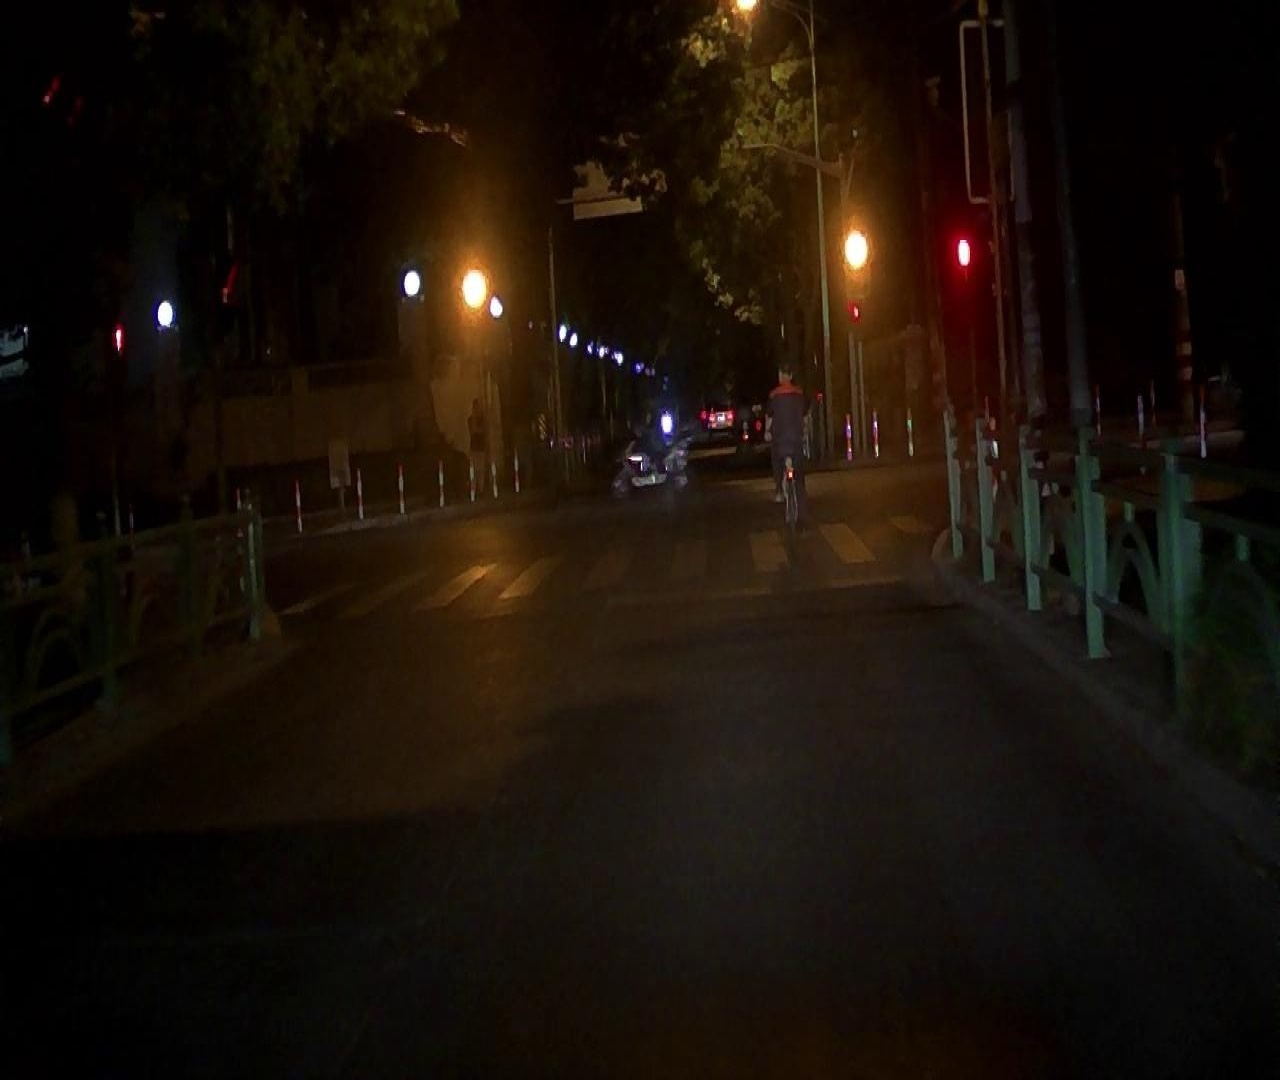yellow: (835, 217, 877, 279), (455, 255, 494, 316)
